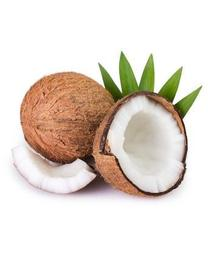coconut: (92, 90, 188, 197), (21, 70, 115, 161)
